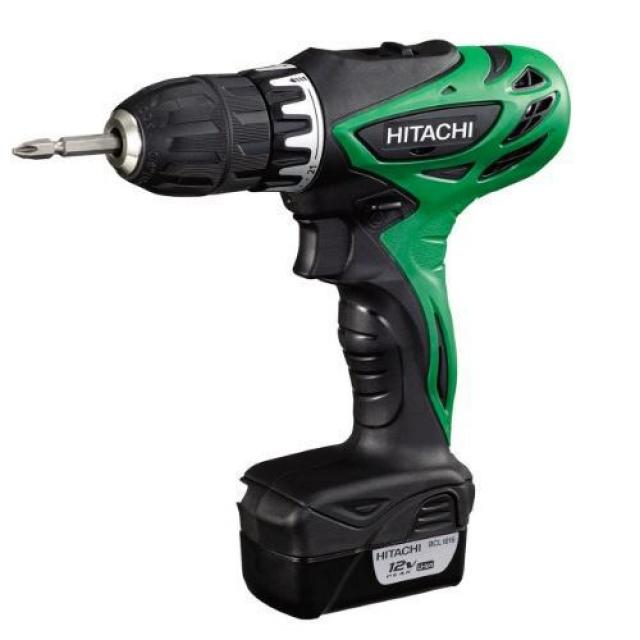Drill: (12, 39, 573, 623)
